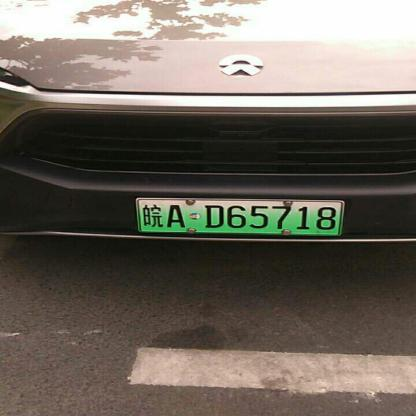lp: (135, 198, 344, 234)
